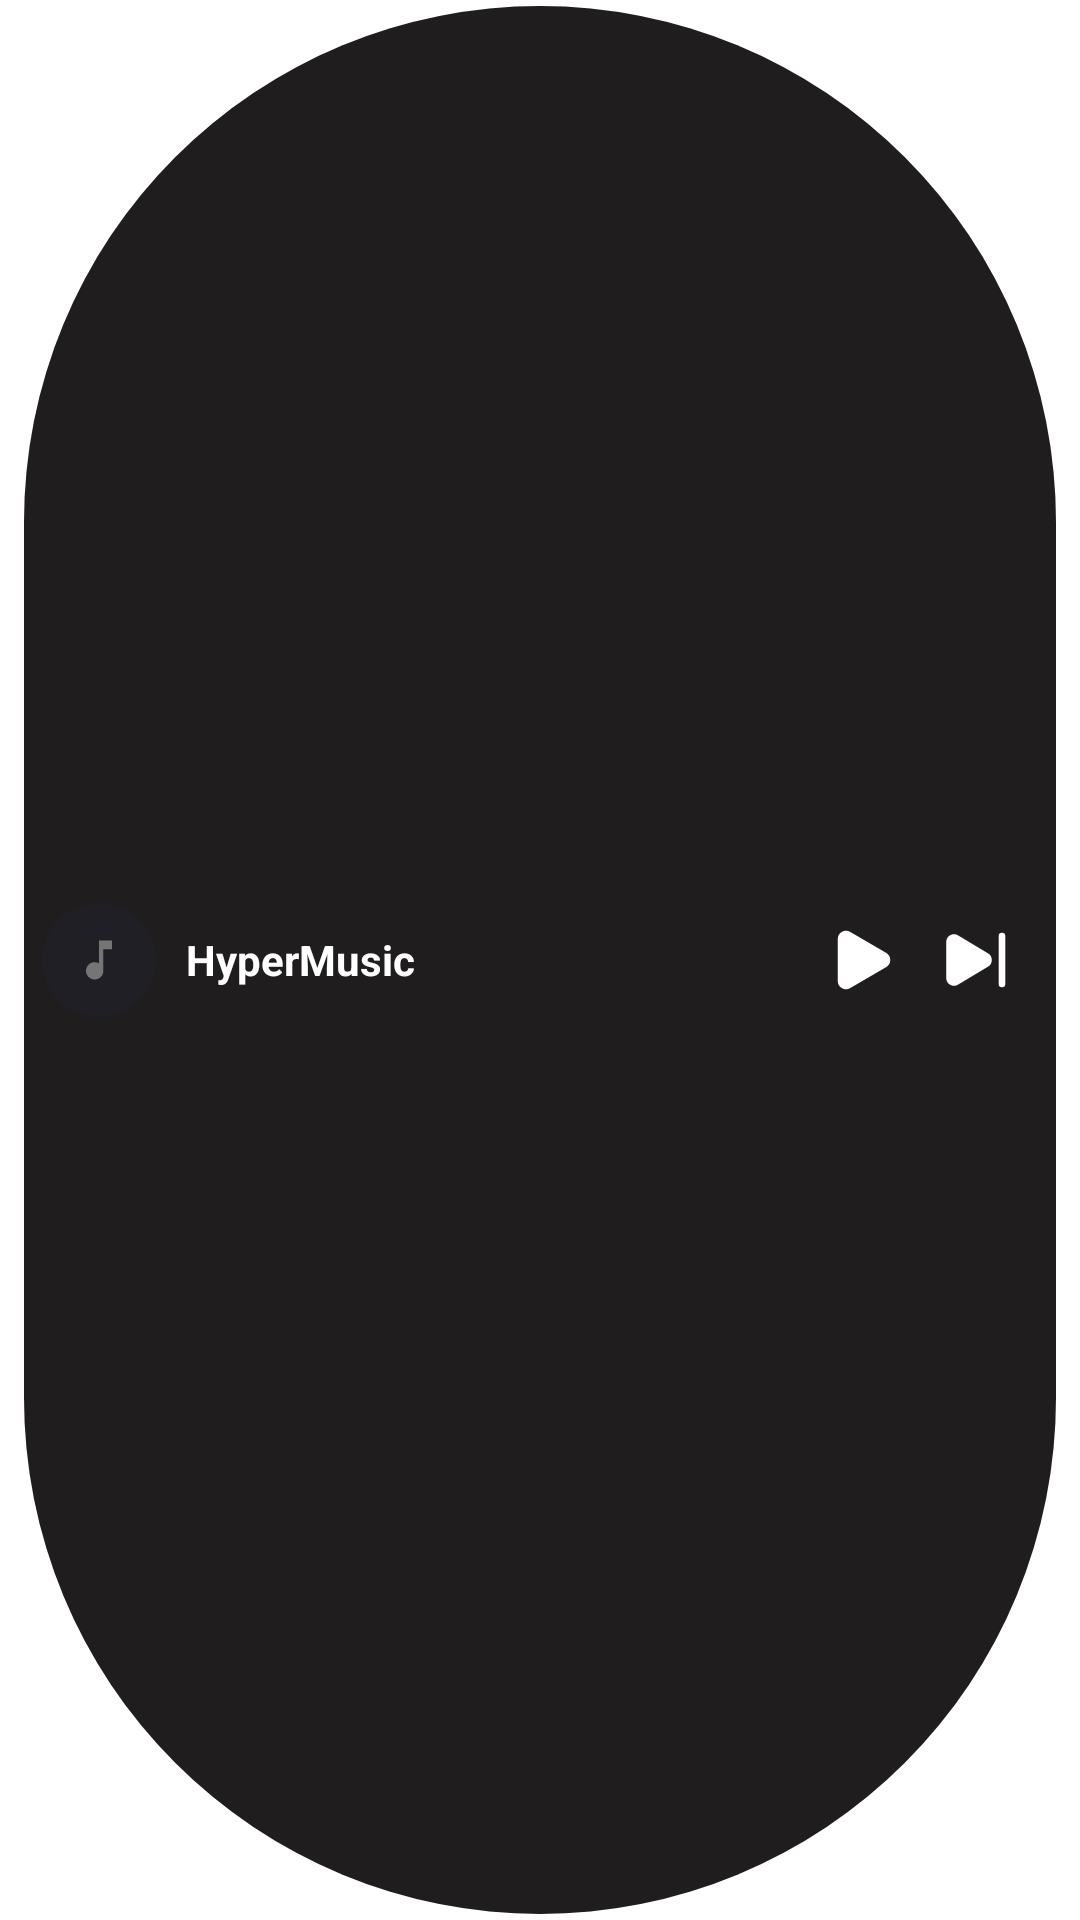

Icon click points for this 1080px×1920px phone screenshot, format [x,y]:
Next track: [976,960]
Play or pause: [864,960]
Track artwork: [99,960]
